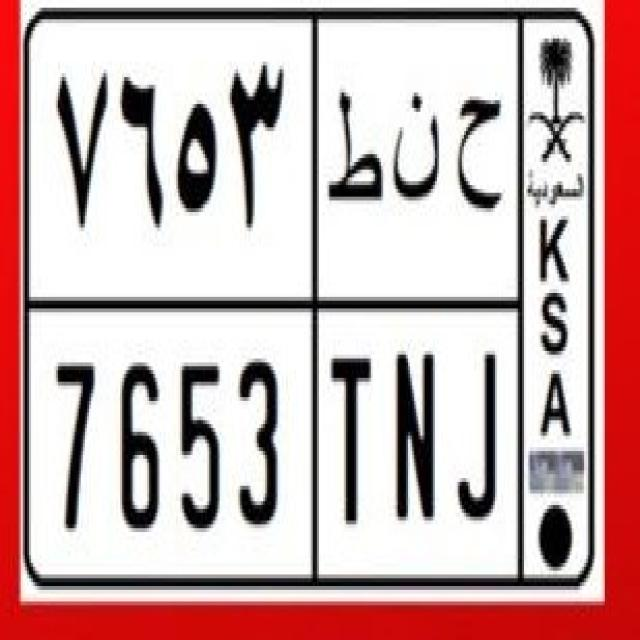license_plate: (41, 340, 506, 536)
